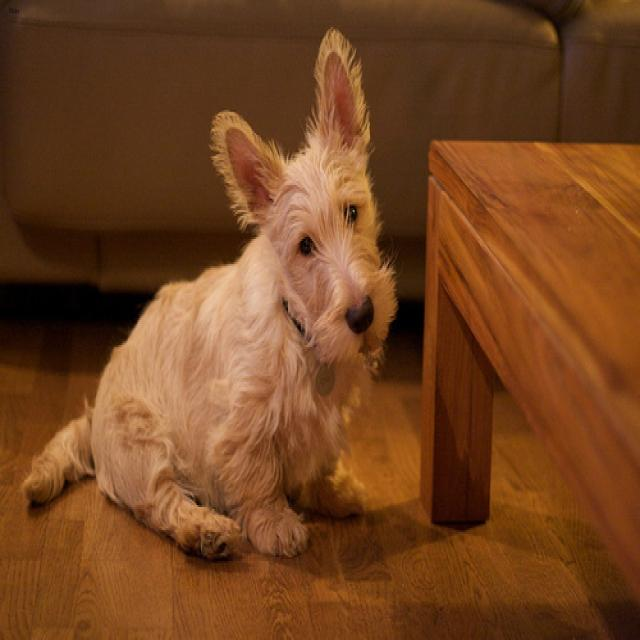dog-scottish_terrier: (14, 25, 403, 571)
